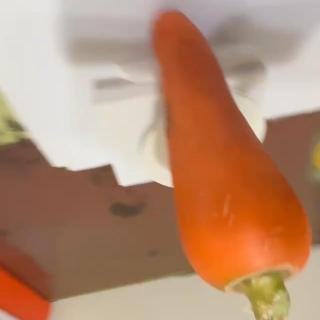carrot: (151, 10, 313, 320)
